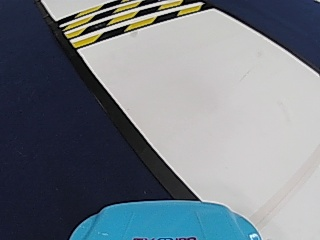bump: (64, 1, 179, 46)
